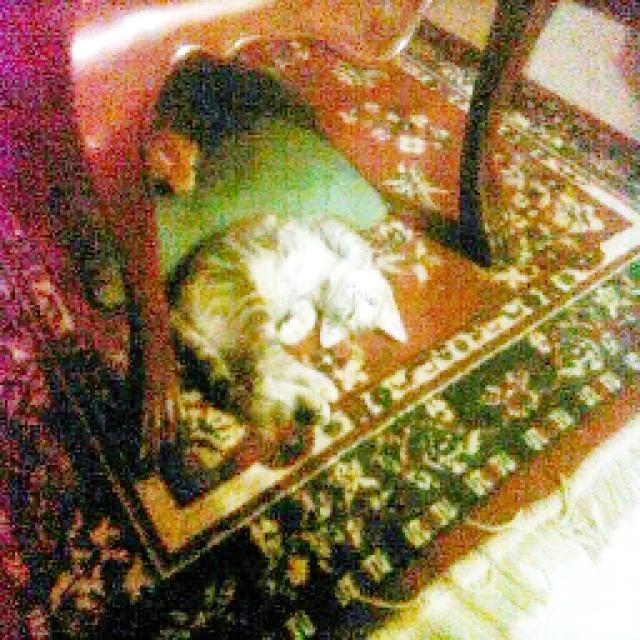cat: (138, 182, 431, 511), (104, 47, 295, 200)
